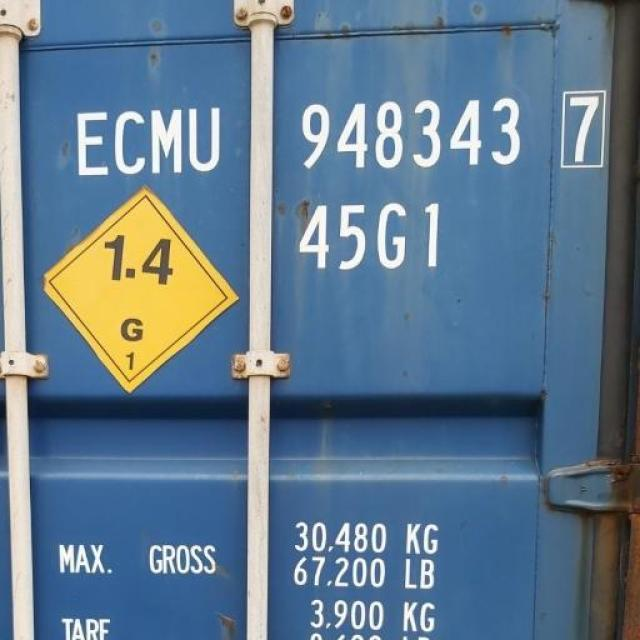ISO: (297, 193, 457, 280)
container_number: (59, 100, 602, 184)
